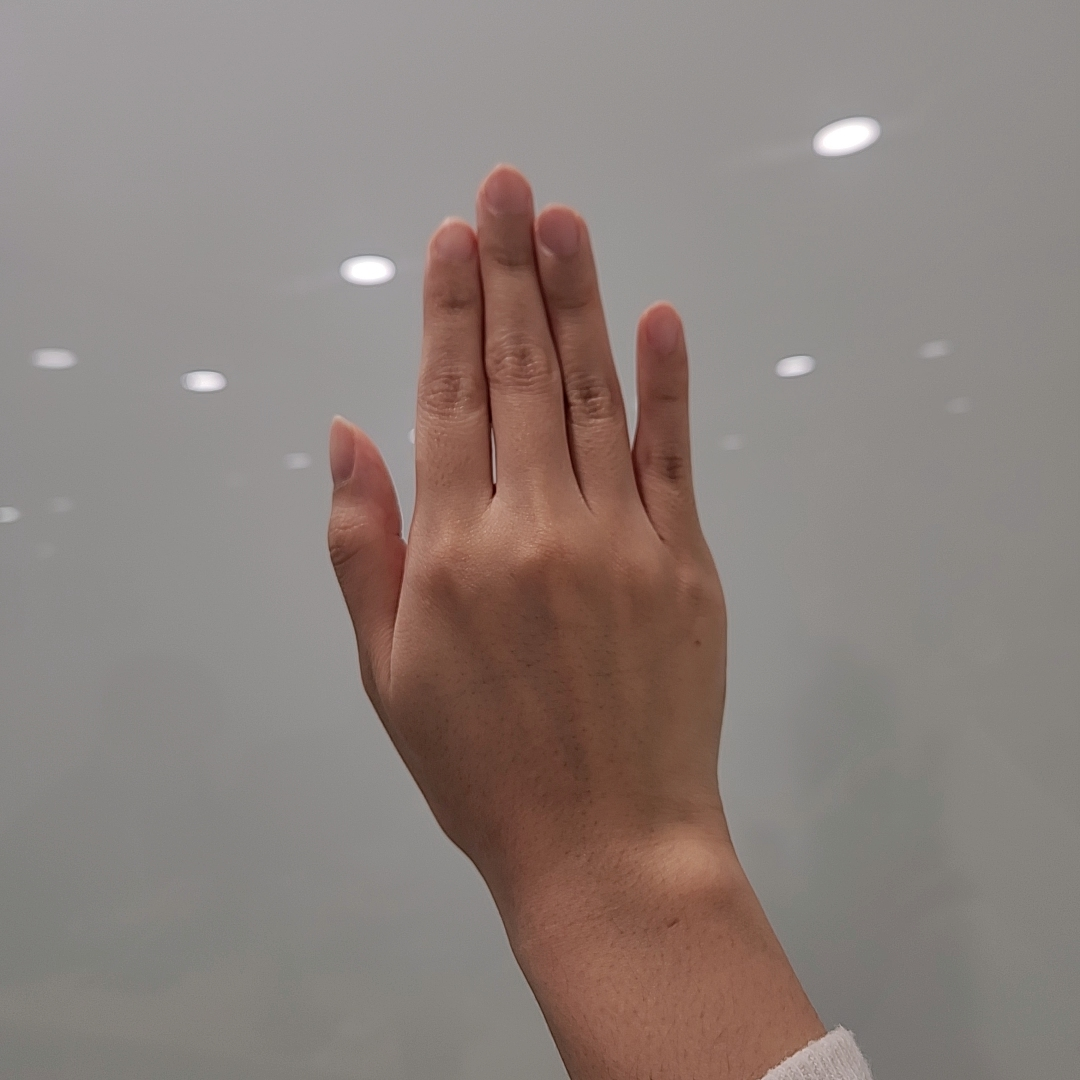me: (325, 164, 730, 872)
